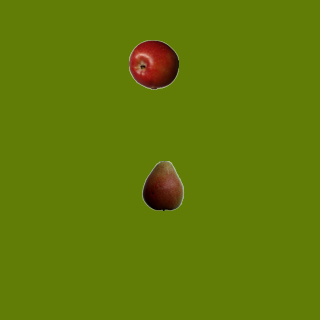Apple Braeburn: (128, 39, 178, 89)
Pear Forelle: (137, 160, 187, 210)
